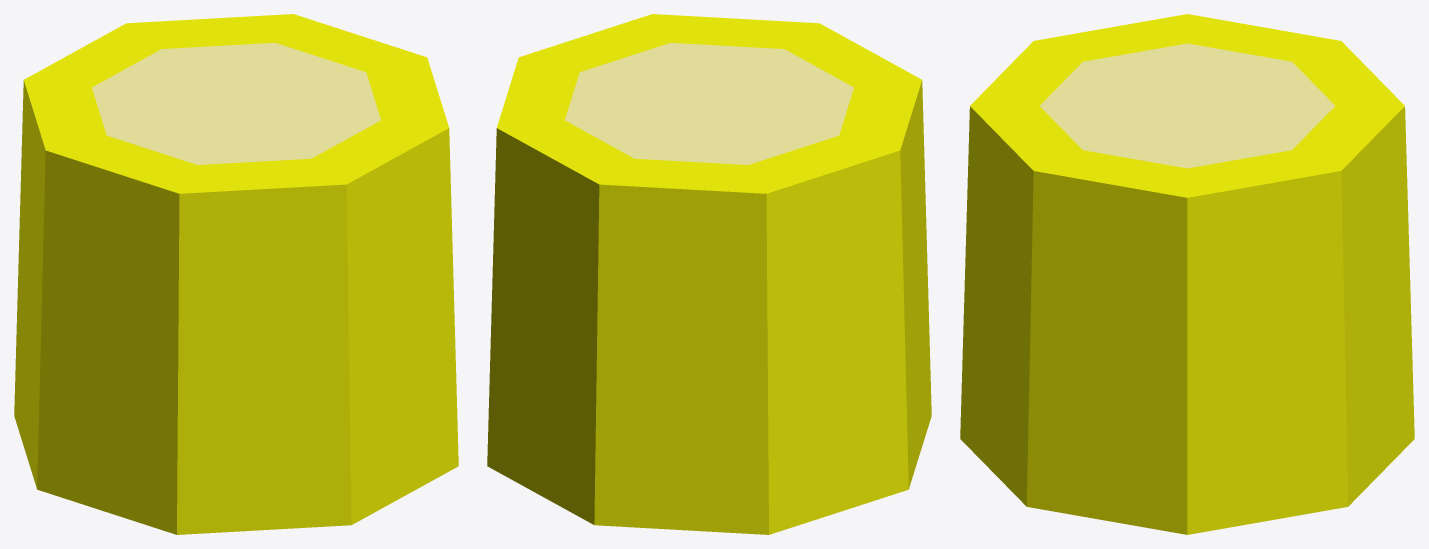
File: corn05.obj
3 views of the same model, side by side, from view 1: azimuth 30°, elevation 25°; view 2: azimuth 150°, elevation 25°; view 3: azimuth 270°, elevation 25° (orthographic).
Parts seen in each view (by area): view 1: Cylinder; view 2: Cylinder; view 3: Cylinder.
Boxes of the visible parts, x1=… form: Cylinder: x1=14, y1=14, x2=458, y2=534; Cylinder: x1=487, y1=14, x2=931, y2=534; Cylinder: x1=960, y1=14, x2=1414, y2=534.
Size of the model in its own units: 0.0612 by 0.0494 by 0.0612.
1 material, 1 textured.
